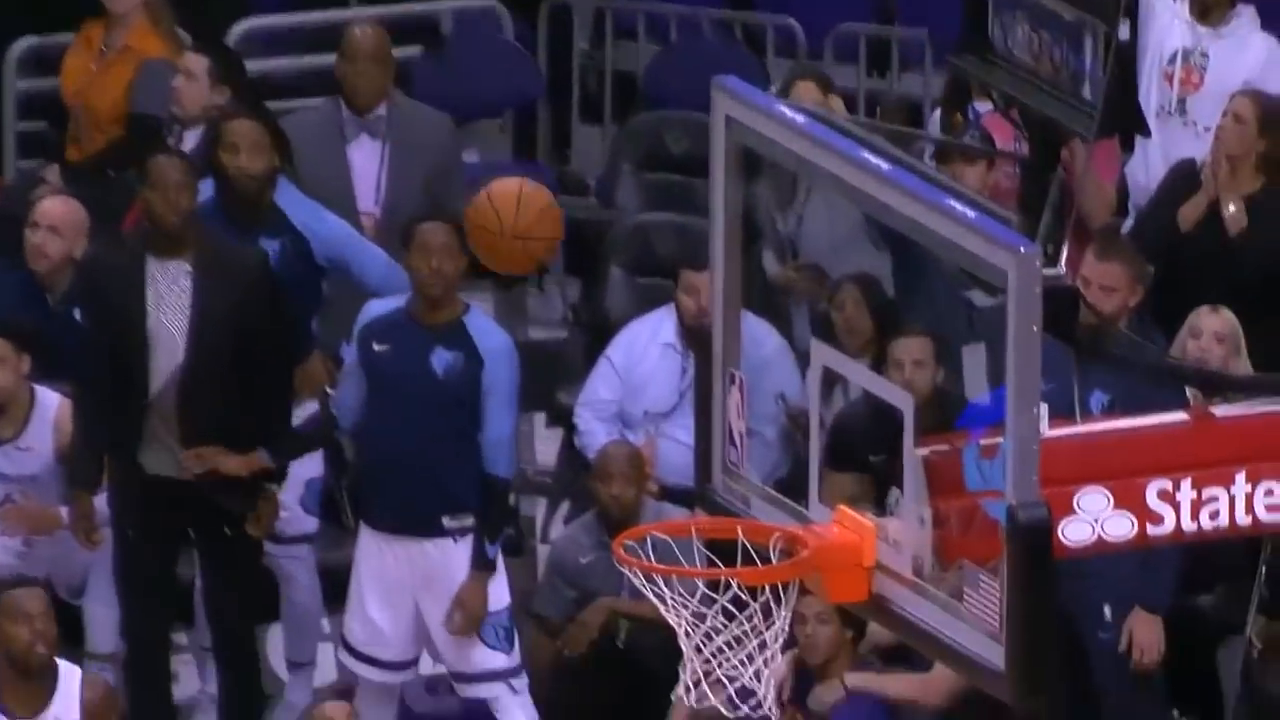ball: (469, 172, 565, 275)
